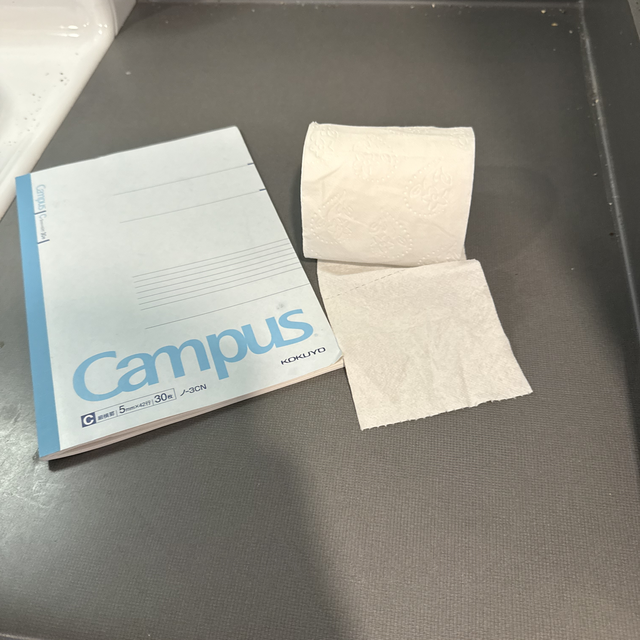Paper: (2, 131, 345, 438)
Toilet Paper: (278, 93, 543, 429)
